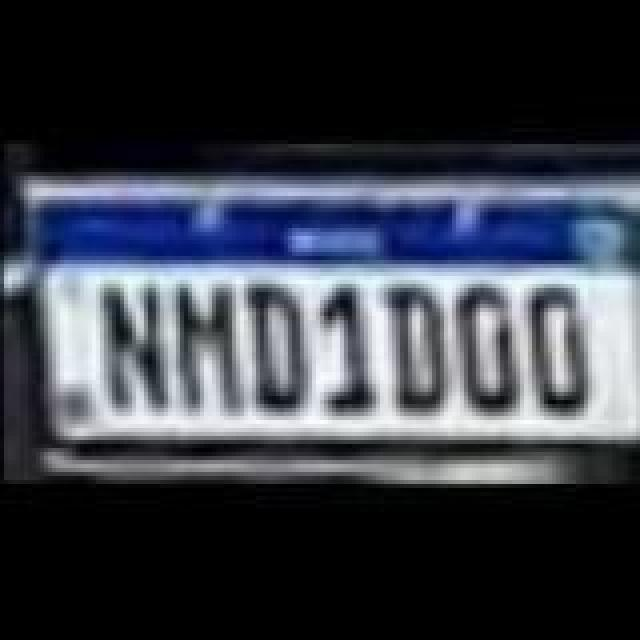1: (312, 282, 380, 414)
D: (452, 286, 528, 422), (382, 282, 454, 422), (518, 284, 590, 424), (250, 280, 314, 416)
M: (168, 284, 252, 416)
N: (100, 278, 168, 414)
